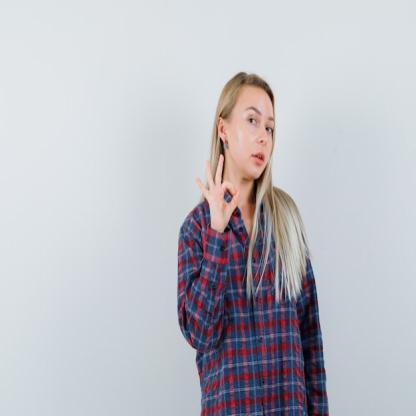ok: (194, 153, 242, 236)
